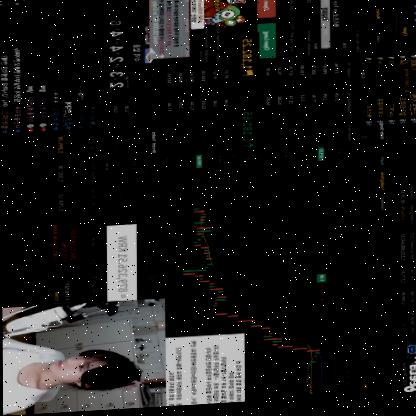donation: (188, 0, 248, 31)
streamer: (2, 330, 142, 414)
